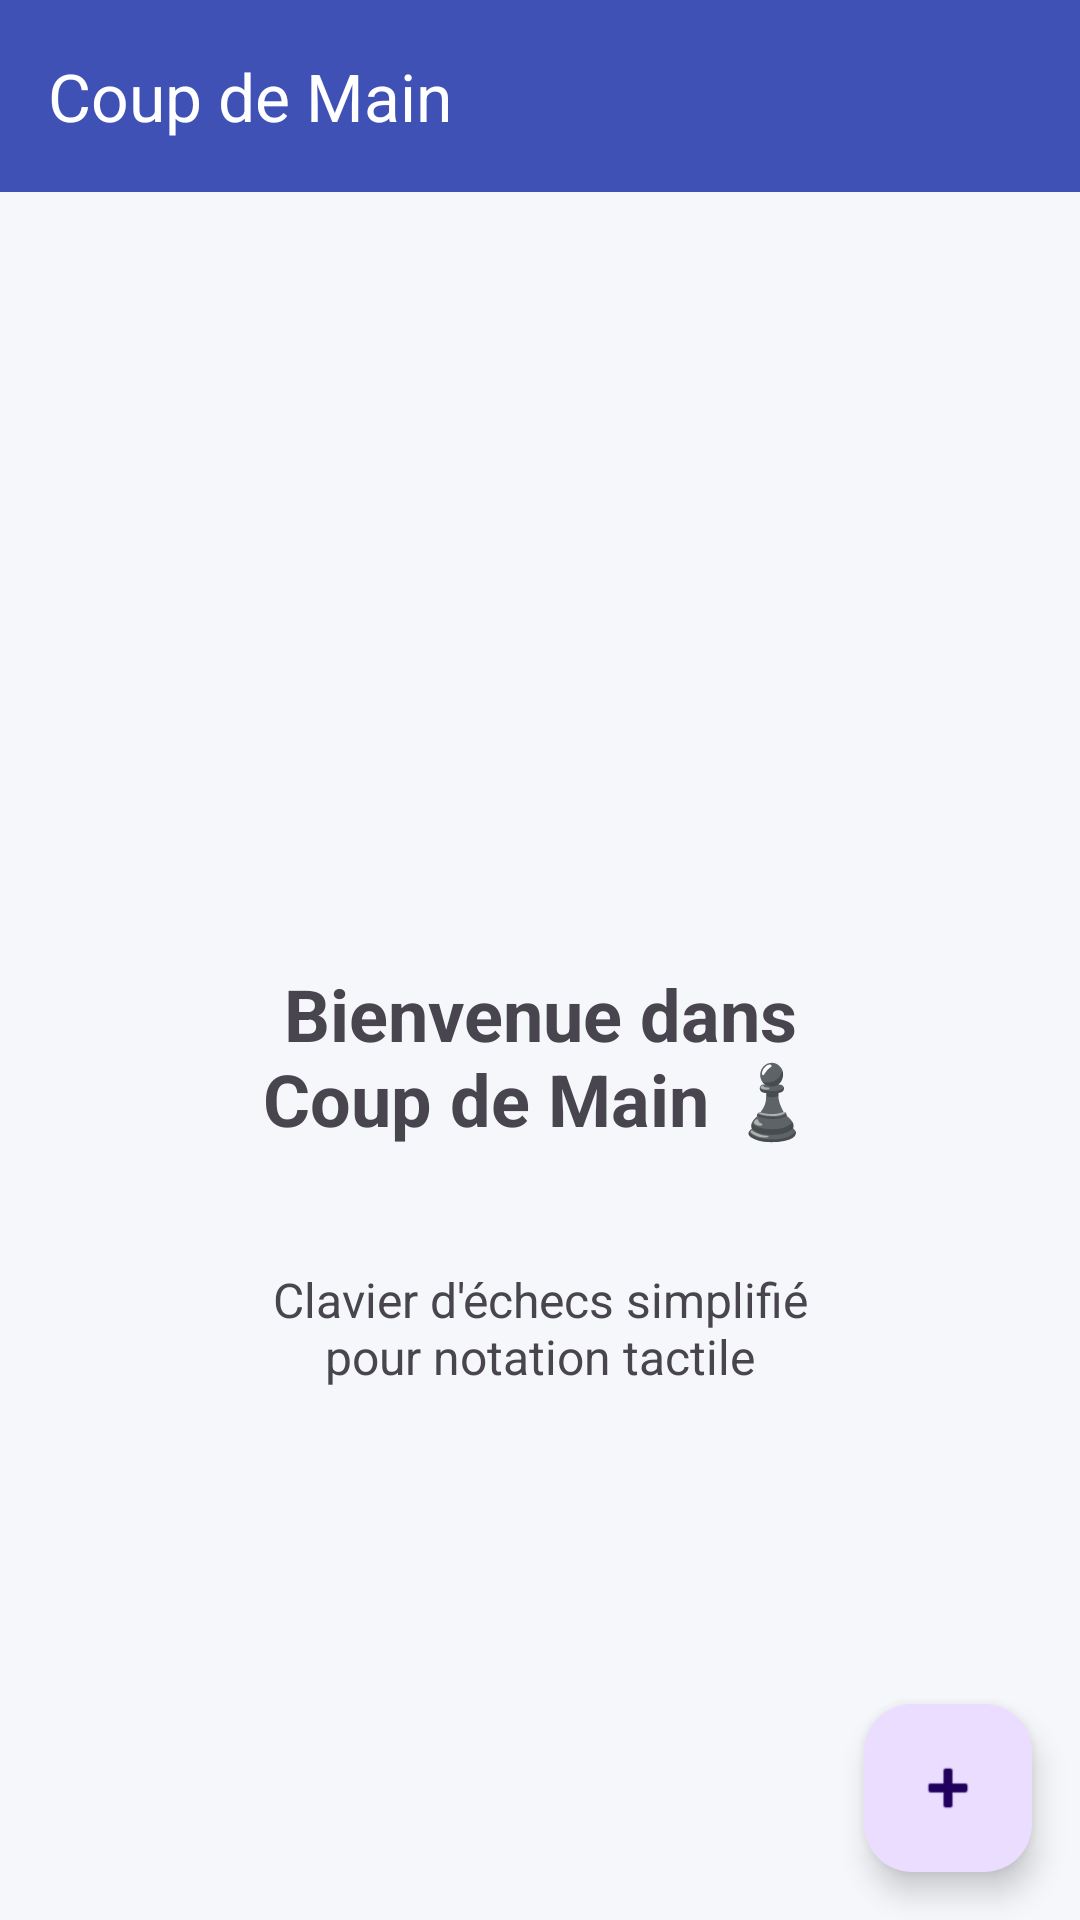

Screen size 1080×1920. Icon name, then its center in pixels as [x,y]:
Nouvelle partie: [948,1788]
